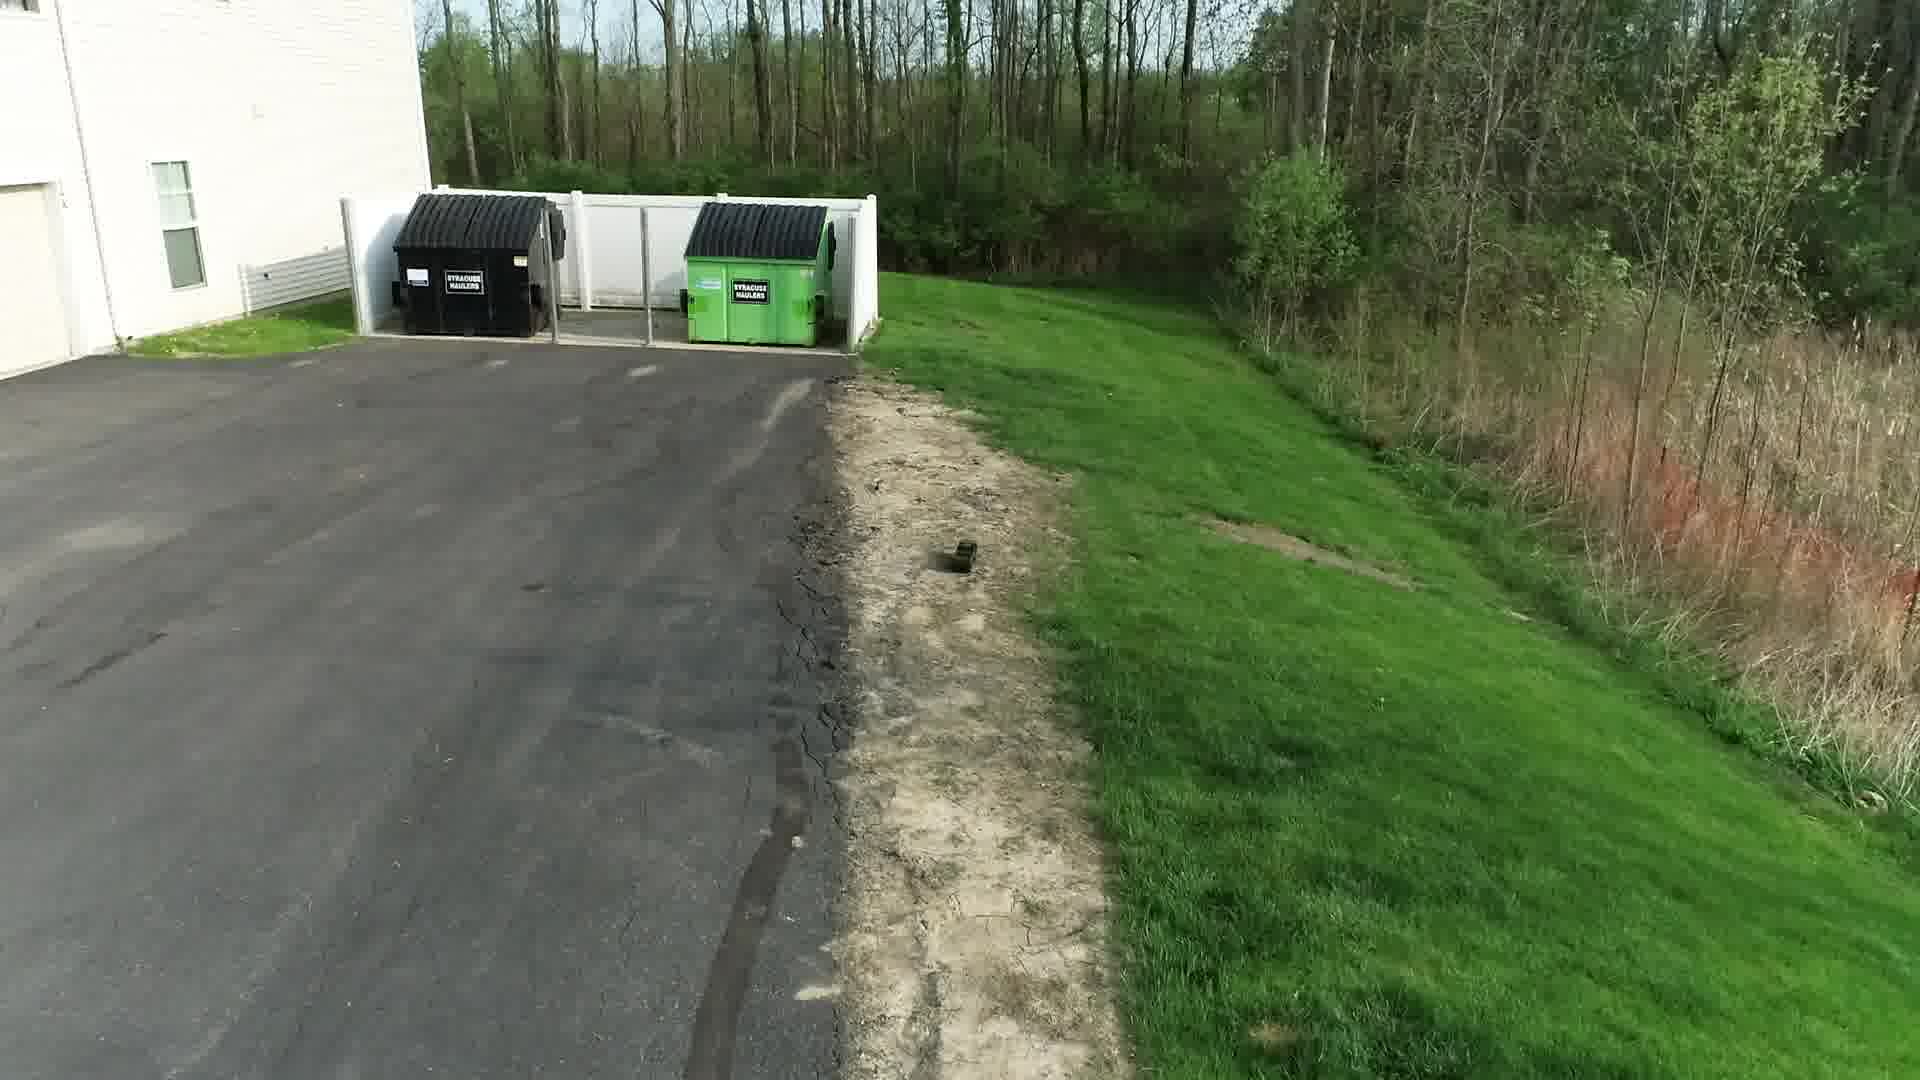transporter9: (947, 537, 980, 575)
